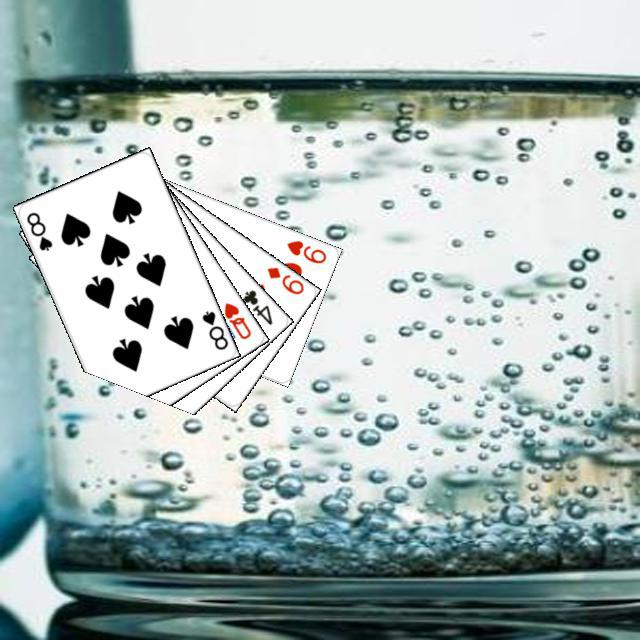4c: (238, 285, 274, 327)
8s: (197, 306, 230, 352), (21, 207, 54, 253)
9d: (262, 262, 306, 296)
9h: (281, 235, 328, 265)
Qh: (219, 298, 253, 341)
